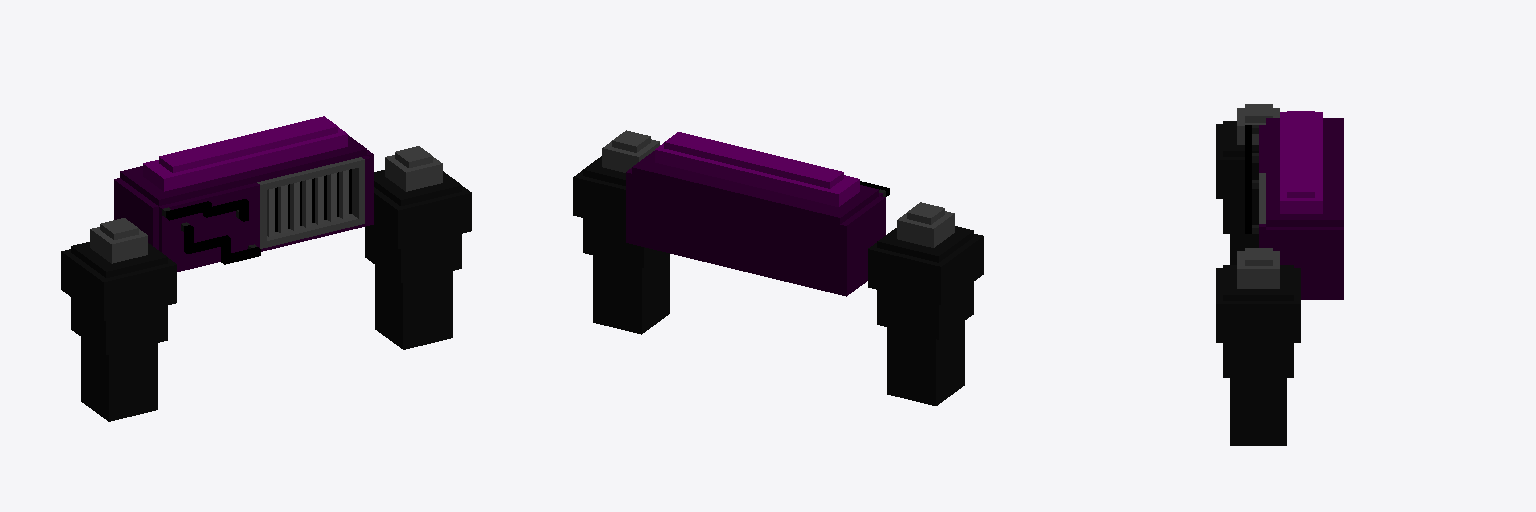
The picture shows the model from 3 angles: view 1: azimuth 30°, elevation 25°; view 2: azimuth 150°, elevation 25°; view 3: azimuth 270°, elevation 25°; orthographic projection.
Visible parts, largest first — view 1: object 1; view 2: object 1; view 3: object 1.
Part boxes in pixels (bbox=[...]): object 1: bbox=[61, 116, 471, 421]; object 1: bbox=[573, 130, 983, 405]; object 1: bbox=[1216, 104, 1343, 445].
Bounding box in the file's own units: 6 × 3.3 × 1.8.
Materials: 1 (1 with a texture image).